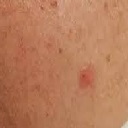Carcinoma: (77, 68, 93, 85)
